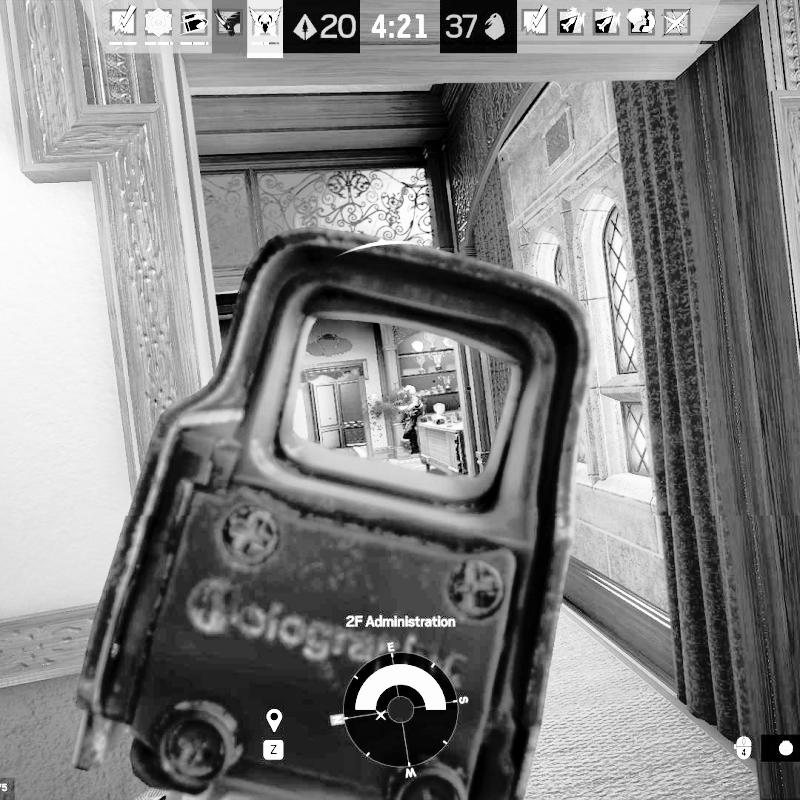Character: (390, 384, 428, 454)
Head: (404, 384, 415, 396)
